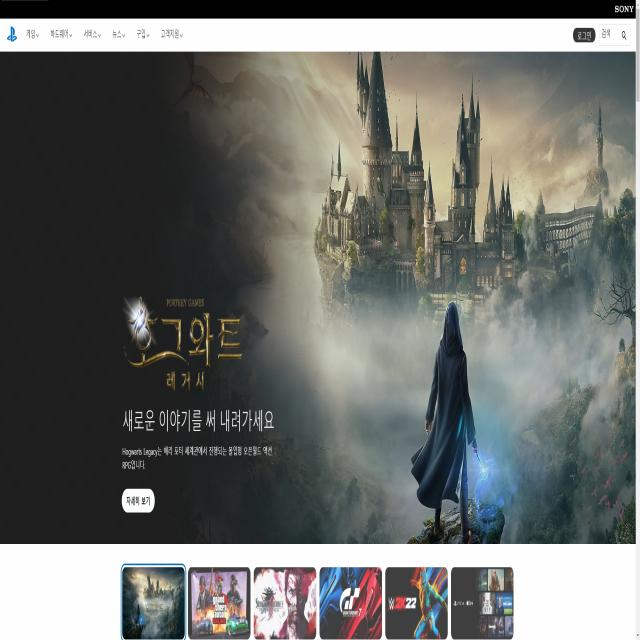search: (598, 20, 632, 46)
tab-bar: (7, 21, 184, 47)
